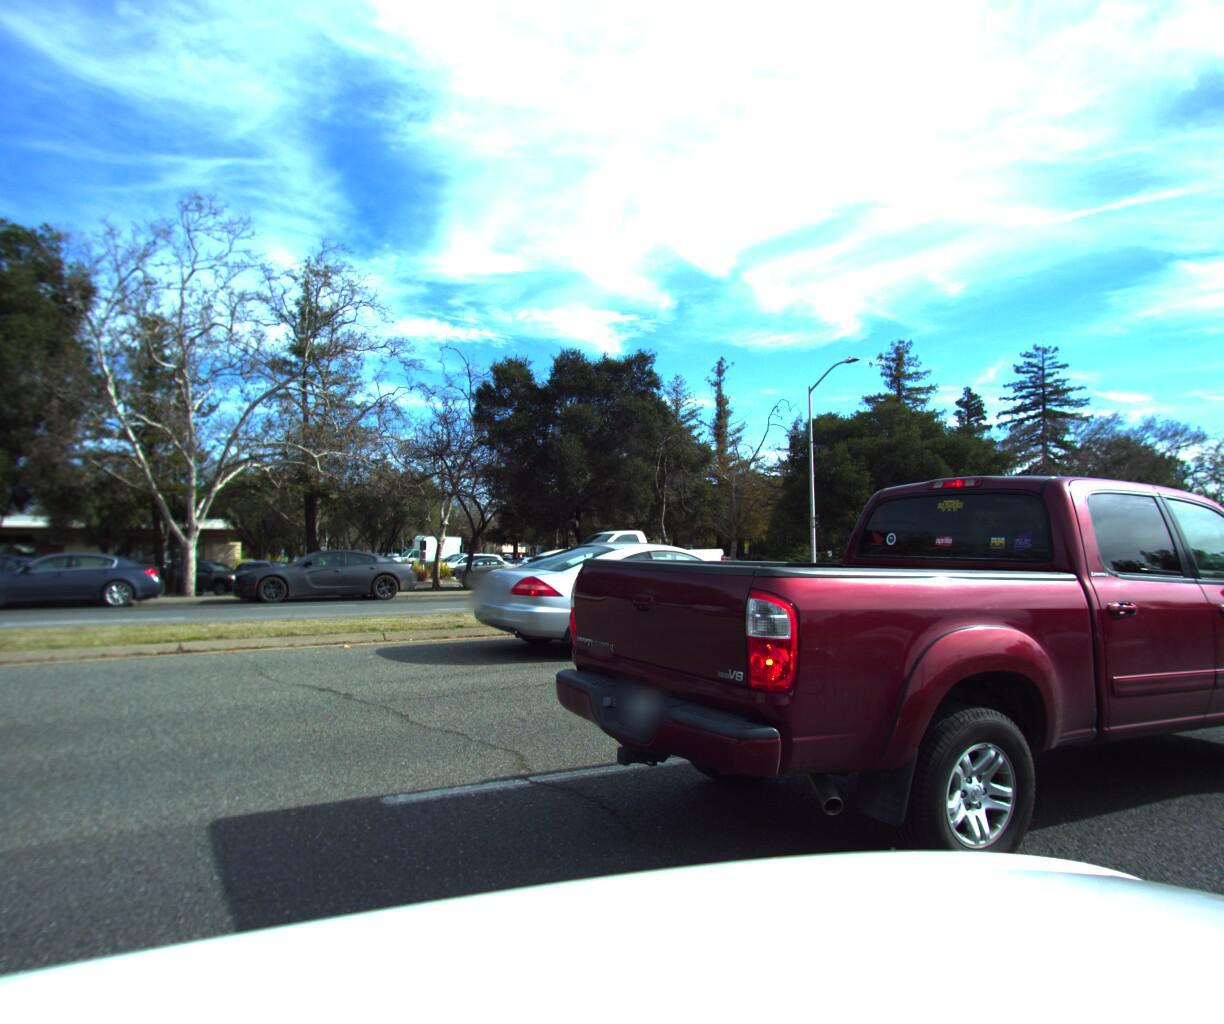car: (491, 414, 1224, 958), (461, 526, 807, 662), (519, 526, 730, 599), (0, 546, 169, 617), (227, 544, 422, 605)
